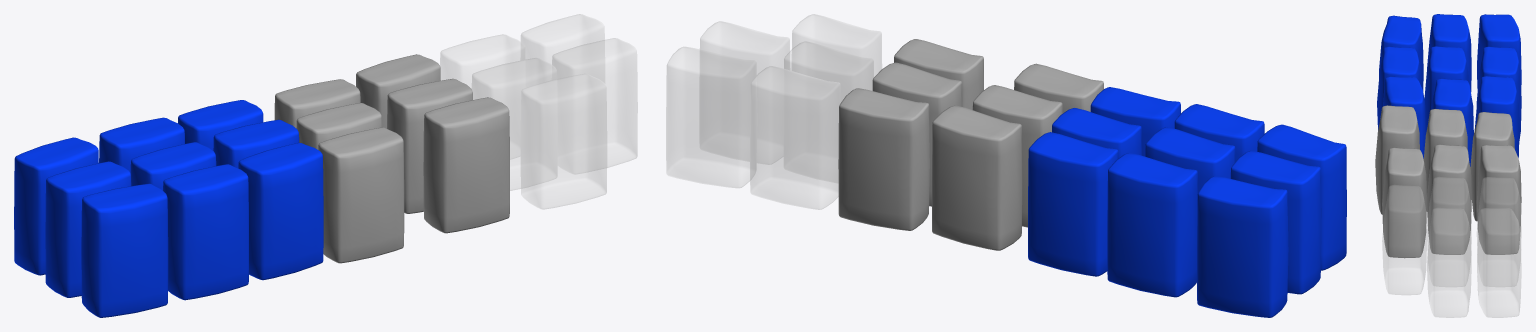
File: Flour_ckgfmu_Pack01.fbx
The picture shows the model from 3 angles, left to right: view 1: azimuth 30°, elevation 25°; view 2: azimuth 150°, elevation 25°; view 3: azimuth 270°, elevation 25°; orthographic projection. The views are drawn at different scales.
Visible parts, largest first — view 1: Flour_ckgfmu_Pack01; view 2: Flour_ckgfmu_Pack01; view 3: Flour_ckgfmu_Pack01.
Part boxes in pixels (x1,y1,x2,y2): Flour_ckgfmu_Pack01: (14, 14, 637, 317); Flour_ckgfmu_Pack01: (666, 14, 1346, 317); Flour_ckgfmu_Pack01: (1375, 14, 1521, 317).
Bounding box in the file's own units: 136 × 24.65 × 37.9.
